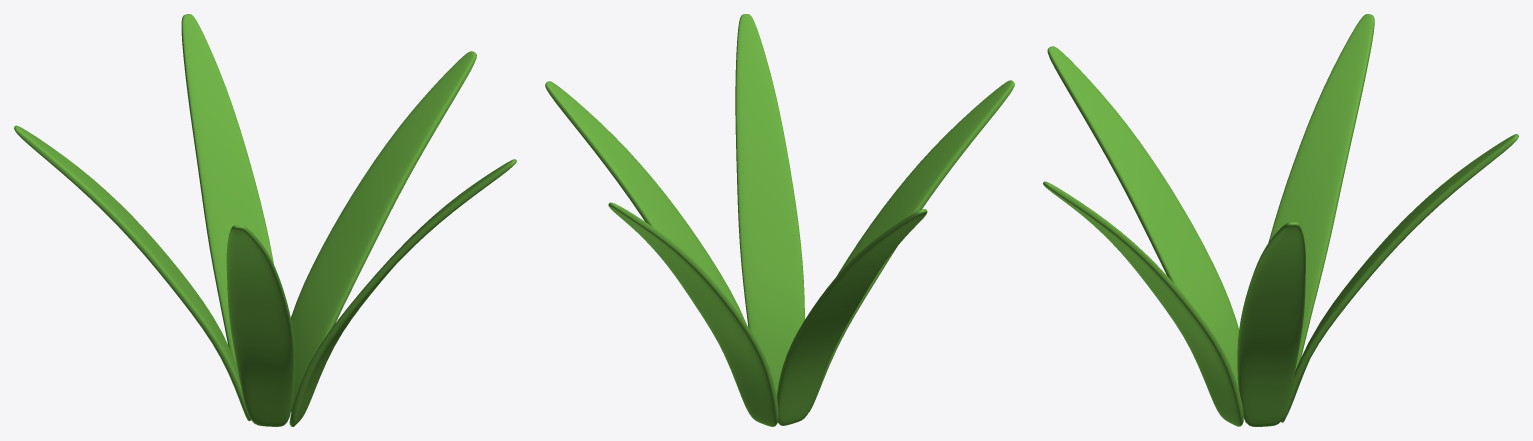
The model's file is Grass_Little.fbx.
3 renders of one model, left to right at view 1: azimuth 30°, elevation 25°; view 2: azimuth 150°, elevation 25°; view 3: azimuth 270°, elevation 25°, orthographic. The views are drawn at different scales.
Parts seen in each view (by area): view 1: high.006; view 2: high.006; view 3: high.006.
Boxes of the visible parts, left/top/right/bottom form: high.006: left=14, top=14, right=516, bottom=426; high.006: left=545, top=14, right=1014, bottom=426; high.006: left=1043, top=14, right=1518, bottom=426.
Bounding box in the file's own units: 244 × 164 × 233.
